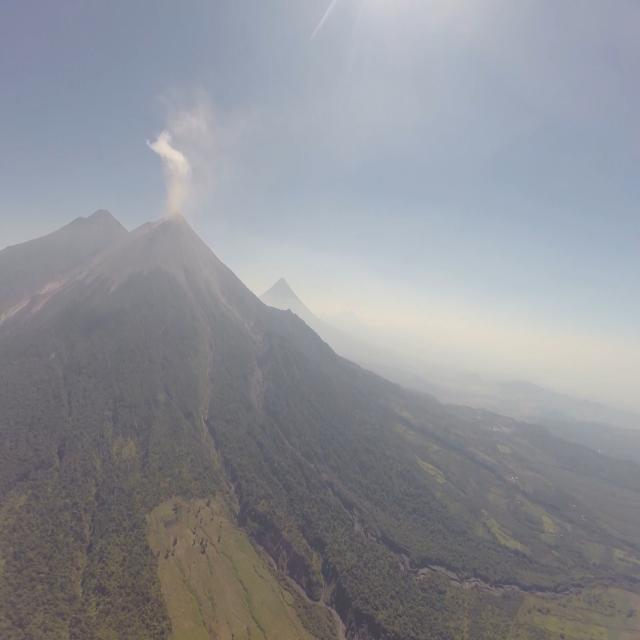Plume: (146, 128, 194, 216)
Summit: (153, 207, 191, 233)
